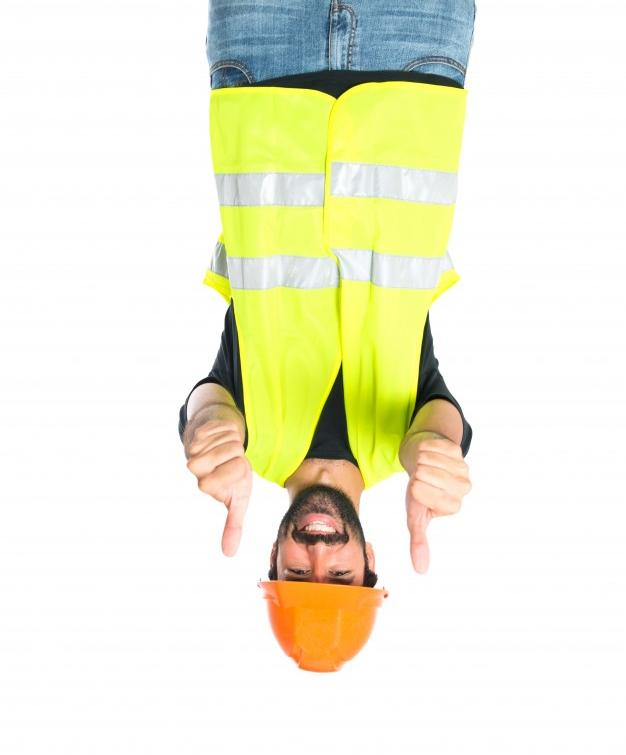thumbsdown: (404, 437, 473, 575), (186, 420, 251, 557)
